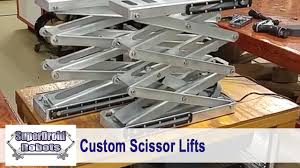Scissor Lift: (98, 1, 252, 135), (34, 1, 148, 123)
